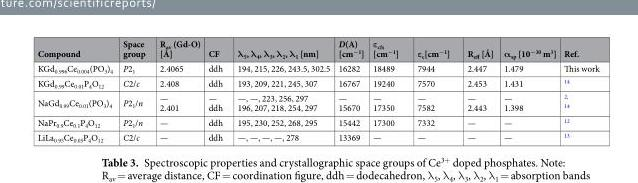table: (36, 37, 598, 143)
table column: (229, 37, 333, 143), (36, 37, 117, 143), (498, 37, 559, 143), (151, 37, 203, 143), (407, 37, 457, 143), (457, 37, 498, 143), (367, 37, 407, 143), (559, 37, 598, 143), (117, 37, 151, 143), (333, 37, 367, 143), (203, 37, 229, 143)
table column header: (36, 37, 598, 60)
table row: (36, 90, 598, 114), (36, 37, 598, 60), (36, 60, 598, 75), (36, 75, 598, 90), (36, 114, 598, 129), (36, 129, 598, 143)
